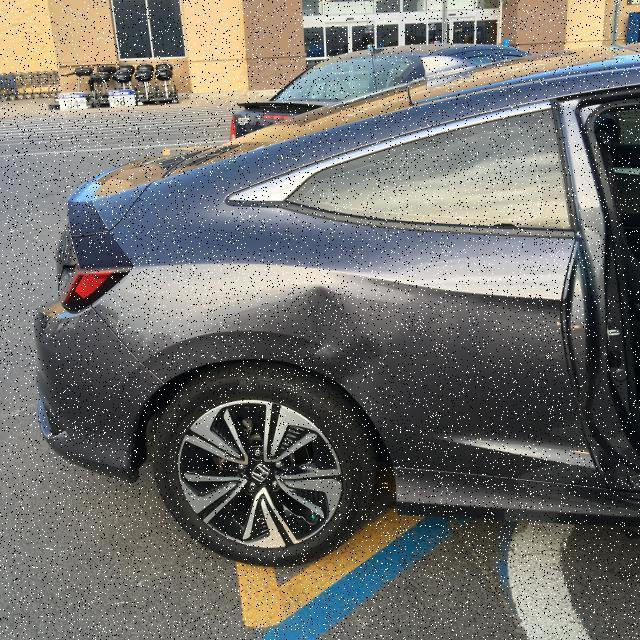medium-Bodypanel-Dent: (380, 46, 380, 48)
quaterpanel-dent: (155, 231, 563, 426)
